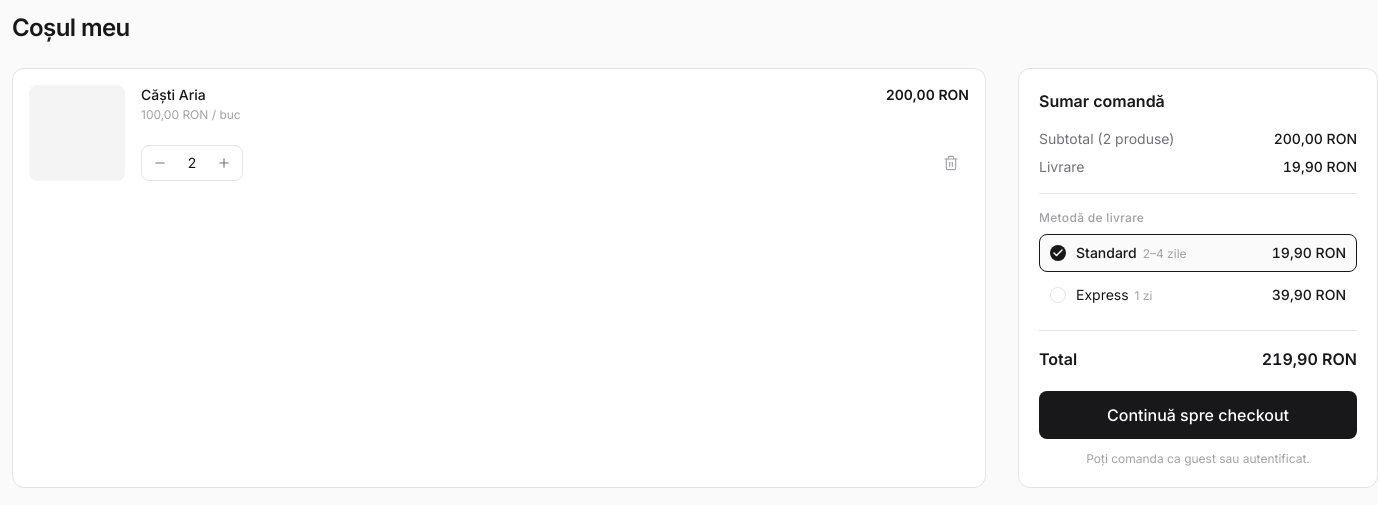
Scenario: CartView › arata coșul gol cand ultima linie a fost stearsa optimist
This screenshot has width=1378, height=505.
Click the button named "Șterge din coș" at x=951, y=163, box [933, 145, 969, 181]
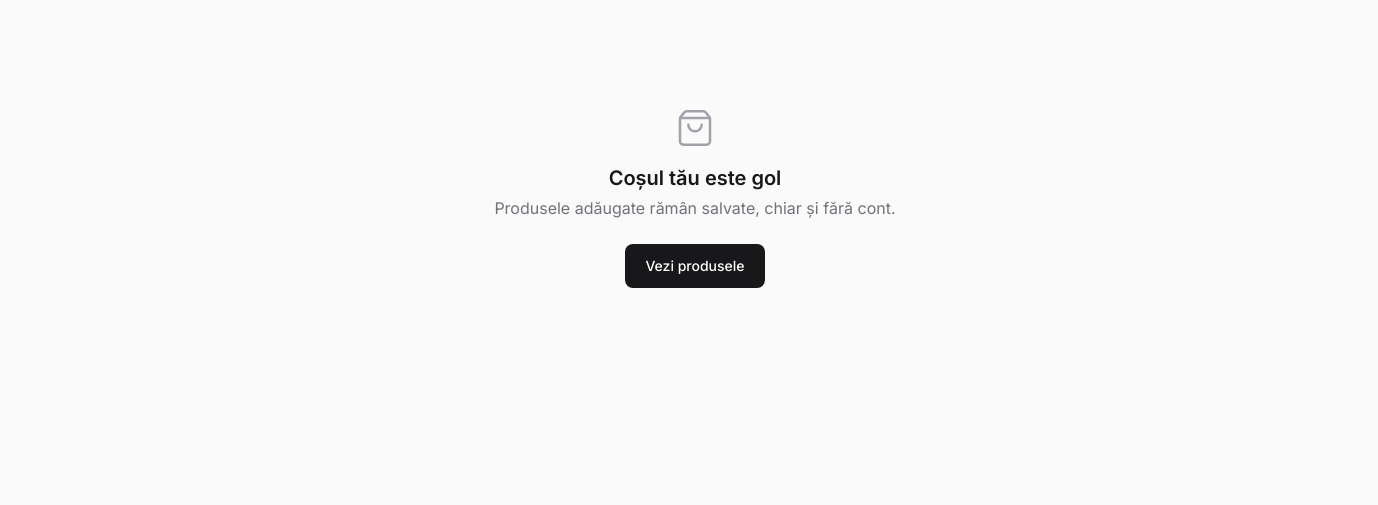
Expected: the heading "Coșul tău este gol" is shown, [609, 164, 781, 192]
